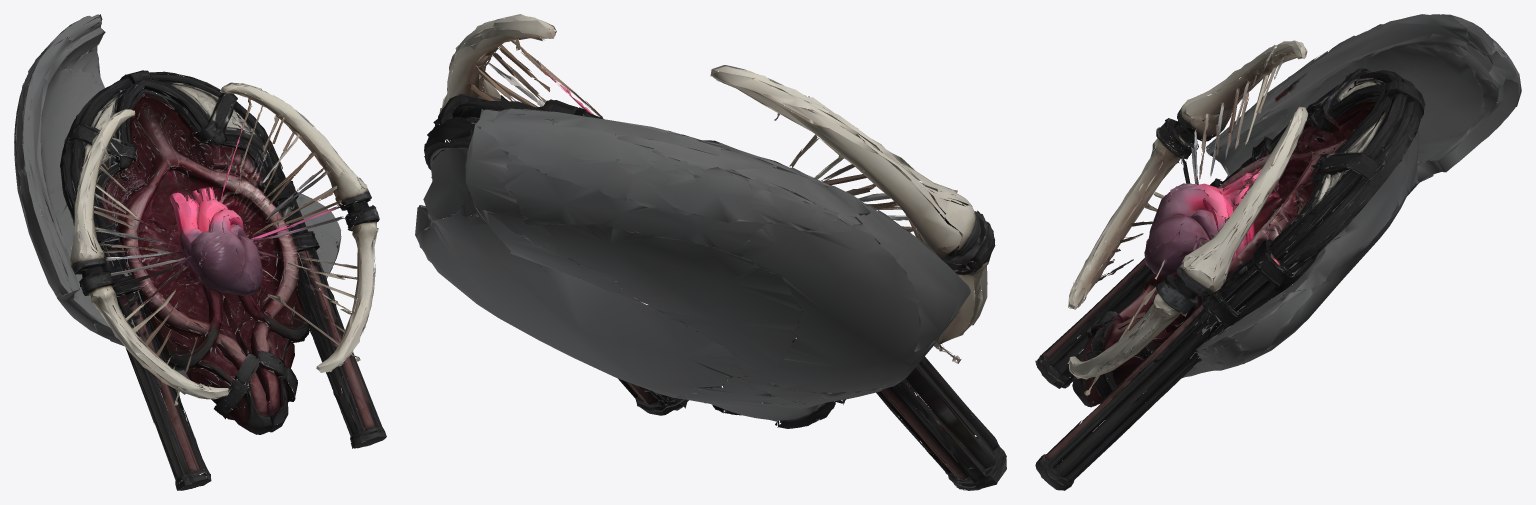
File: prop_hive_suture_organ.glb
3 views of the same model, side by side, from view 1: azimuth 30°, elevation 25°; view 2: azimuth 150°, elevation 25°; view 3: azimuth 270°, elevation 25° (orthographic). The views are drawn at different scales.
Parts seen in each view (by area): view 1: node_0; view 2: node_0; view 3: node_0.
Part boxes in pixels (x1=…): node_0: x1=14, y1=14, x2=386, y2=490; node_0: x1=415, y1=14, x2=1006, y2=490; node_0: x1=1035, y1=14, x2=1521, y2=490.
Size of the model in its own units: 0.7381 by 0.7644 by 0.8646.
1 material, 1 textured.
